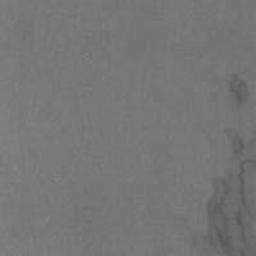Water spot: (173, 72, 256, 256)
